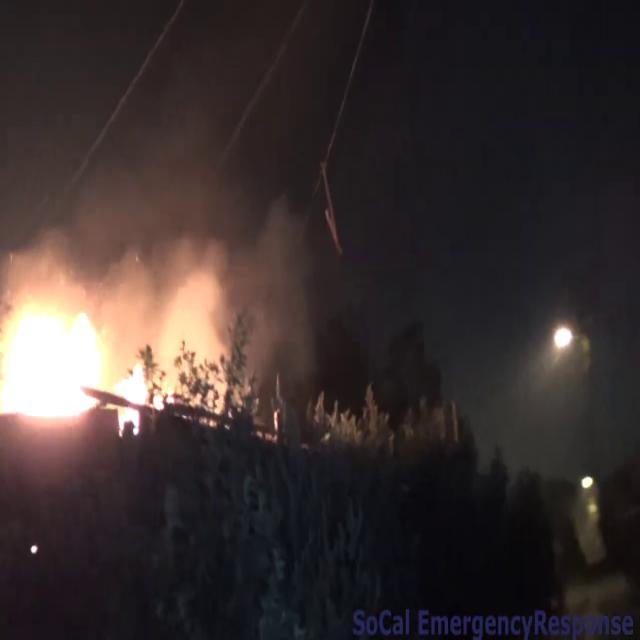Fire: (0, 288, 162, 430)
Smoke: (126, 178, 327, 352)
